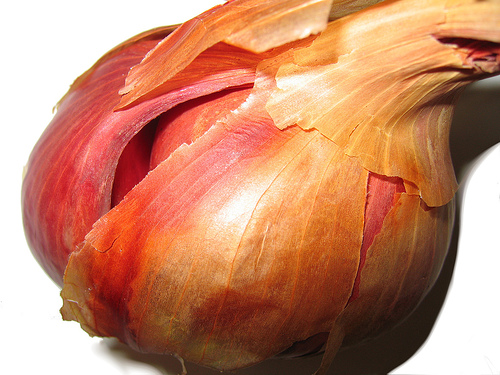onion: (19, 0, 499, 374)
